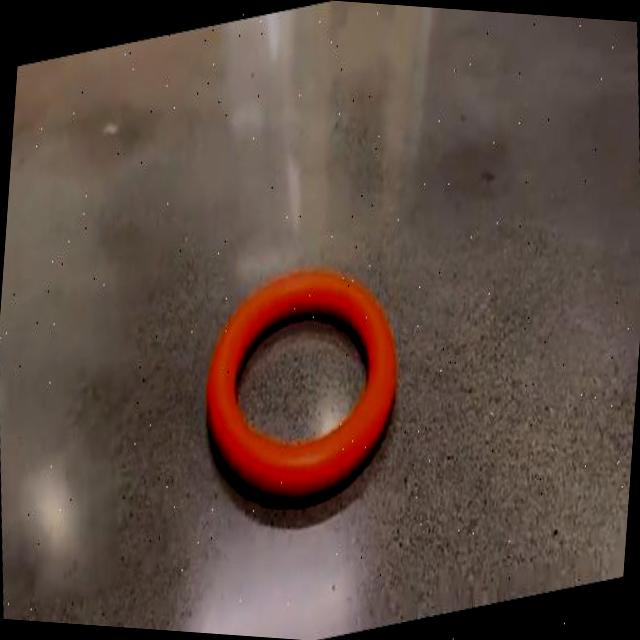note: (207, 268, 397, 497)
